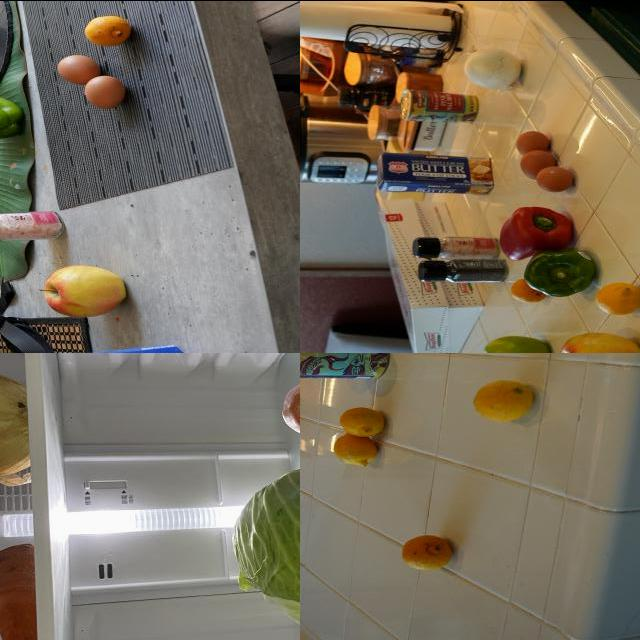bell_pepper: (496, 206, 575, 262), (527, 250, 599, 296), (422, 259, 508, 283), (1, 93, 27, 142)
cabbage: (232, 463, 301, 640)
carrot: (1, 545, 39, 640), (278, 381, 301, 441)
egg: (84, 76, 130, 106), (57, 57, 97, 85), (522, 149, 559, 179), (540, 164, 576, 191), (517, 128, 553, 154)
onion: (1, 373, 34, 485), (467, 43, 529, 91)
